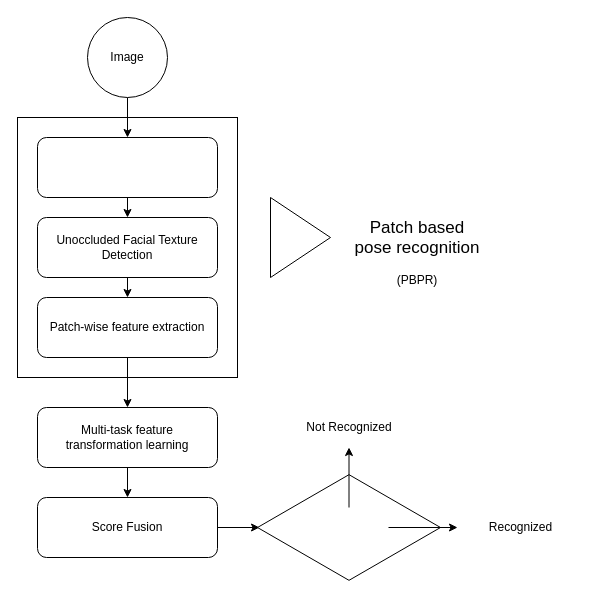
Some shapes in this 602 by 600 pixel diagram are drawn without their labels. The shapes that lost their labels are listed below. From the top down, each one's centre as x and y in pixels, then its label:
At [127,167]: "Face Pose Normalization".
At [348,527]: "Decision".
